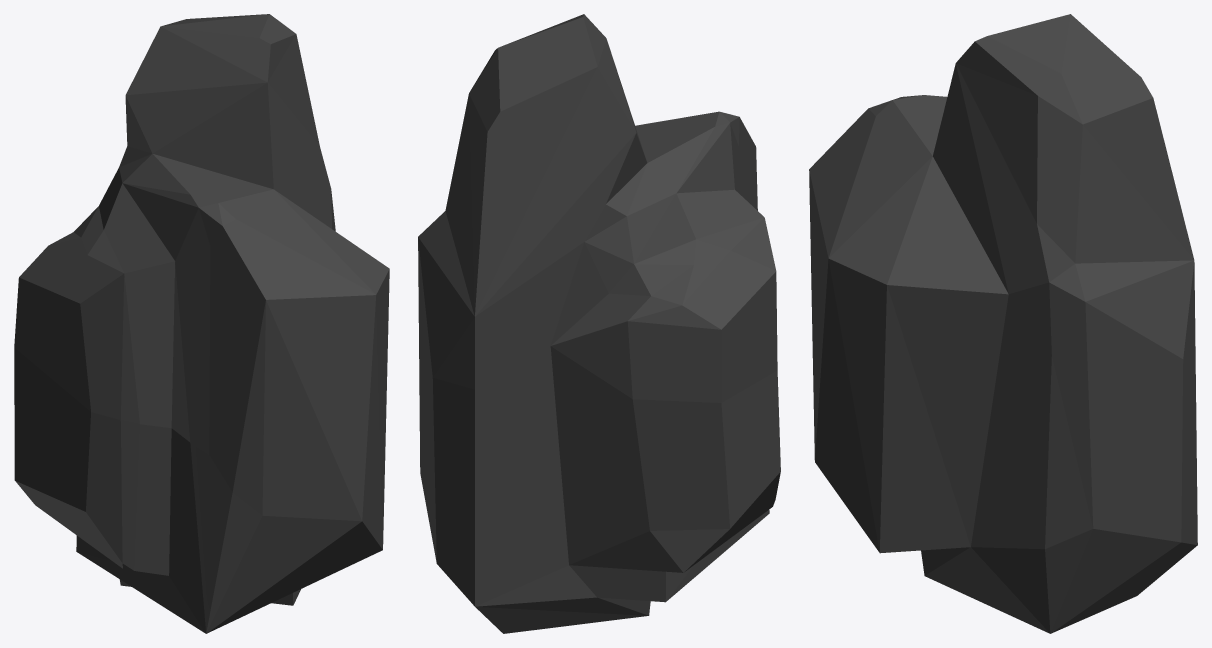
File: rock__rock3_natural_dark.glb
3 views of the same model, side by side, from view 1: azimuth 30°, elevation 25°; view 2: azimuth 150°, elevation 25°; view 3: azimuth 270°, elevation 25° (orthographic).
Parts seen in each view (by area): view 1: rock3.natural.dark; view 2: rock3.natural.dark; view 3: rock3.natural.dark.
Part boxes in pixels (bbox=[...]): rock3.natural.dark: bbox=[14, 14, 389, 633]; rock3.natural.dark: bbox=[418, 14, 780, 633]; rock3.natural.dark: bbox=[809, 14, 1197, 633].
Bounding box in the file's own units: 3.44 × 5.94 × 3.75.
Materials: 1 (1 with a texture image).
